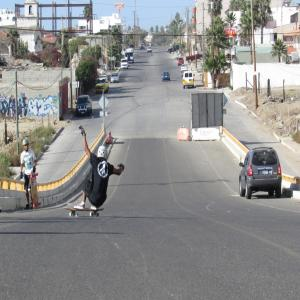Vehicle-registration-plate: (264, 170, 269, 176)
